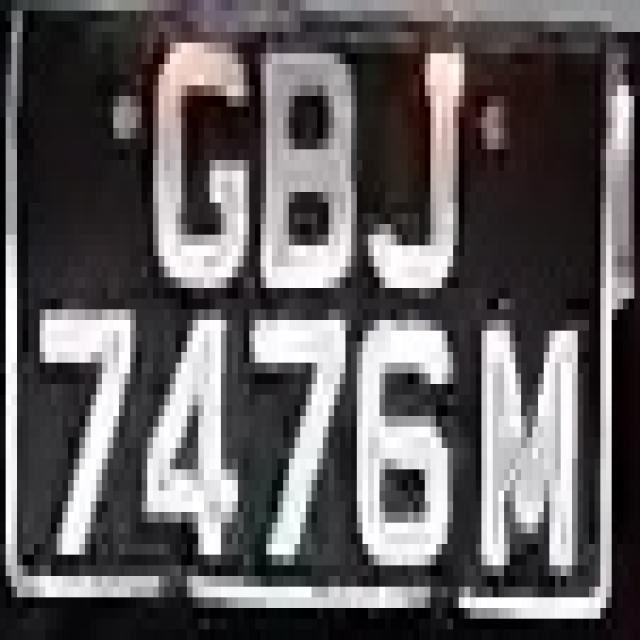4: (130, 288, 244, 587)
6: (3, 4, 4, 11)
7: (22, 277, 124, 587), (244, 298, 346, 586)
B: (249, 21, 368, 320)
G: (142, 21, 260, 299)
J: (351, 21, 470, 299)
M: (470, 288, 600, 587)
